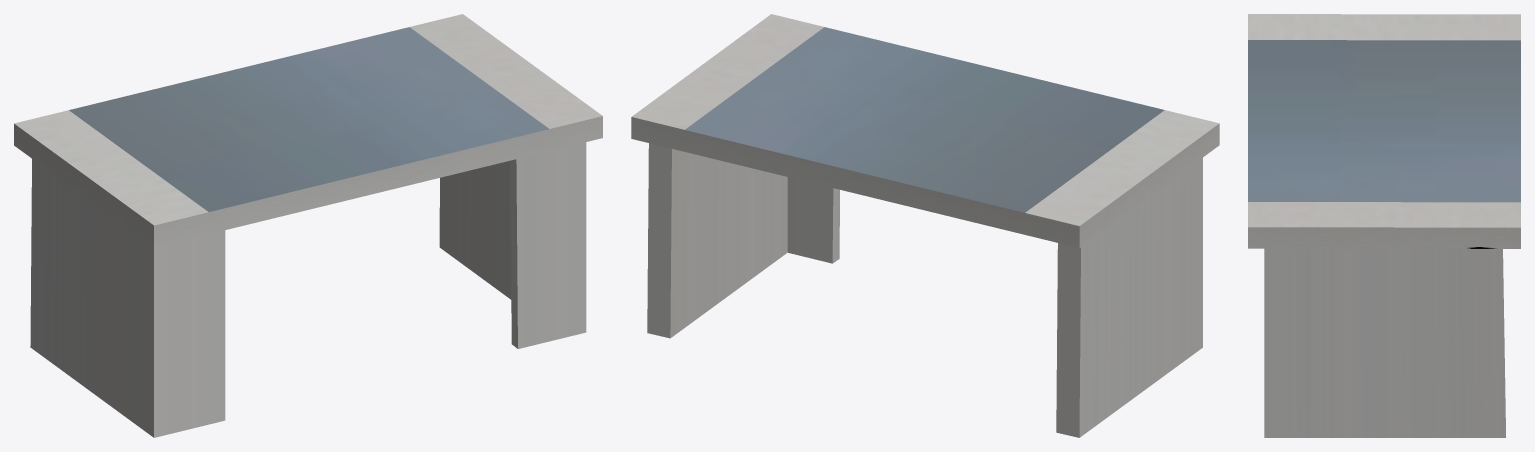
File: desk4.fbx
The picture shows the model from 3 angles, left to right: view 1: azimuth 30°, elevation 25°; view 2: azimuth 150°, elevation 25°; view 3: azimuth 270°, elevation 25°; orthographic projection. The views are drawn at different scales.
Visible parts, largest first — view 1: Cube; view 2: Cube; view 3: Cube.
Boxes of the visible parts, bbox=[...] form: Cube: bbox=[14, 14, 602, 437]; Cube: bbox=[631, 14, 1219, 437]; Cube: bbox=[1248, 14, 1520, 437].
Bounding box in the file's own units: 311 × 146 × 168.
